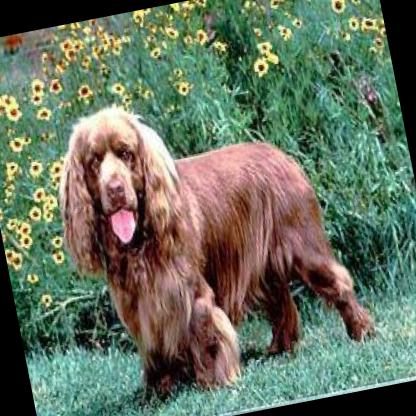Sussex_spaniel: (39, 59, 377, 416)
